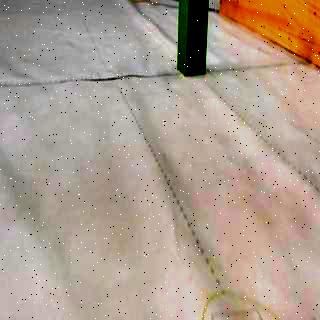greenbox: (177, 0, 210, 77)
